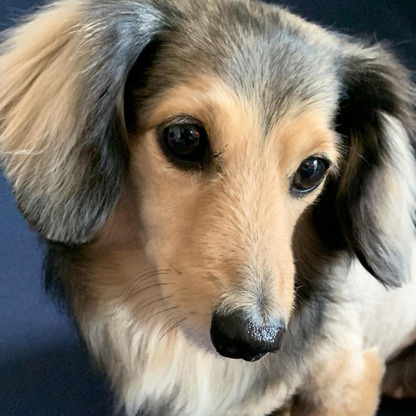dachshund: (33, 12, 391, 391)
